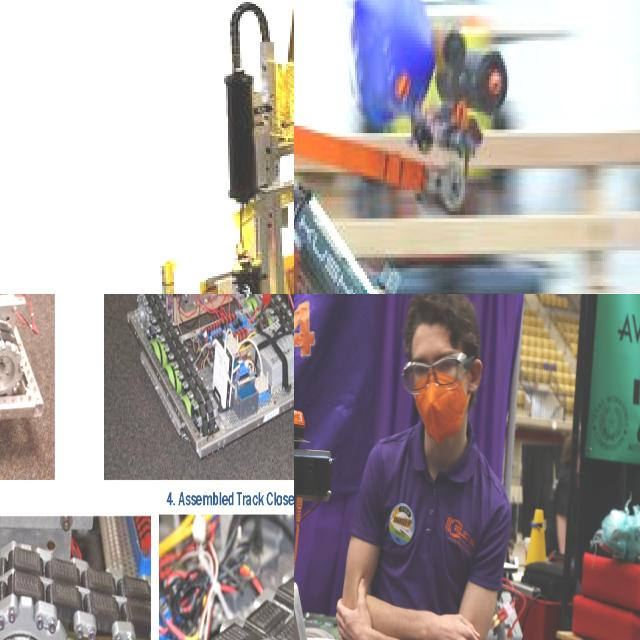FRC-Robots: (294, 0, 544, 294), (91, 0, 294, 294), (162, 509, 294, 640)
